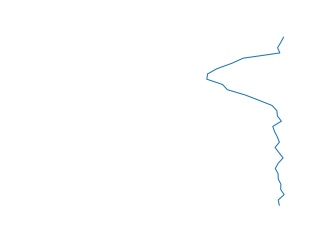distalBar: (201, 35, 289, 207)
